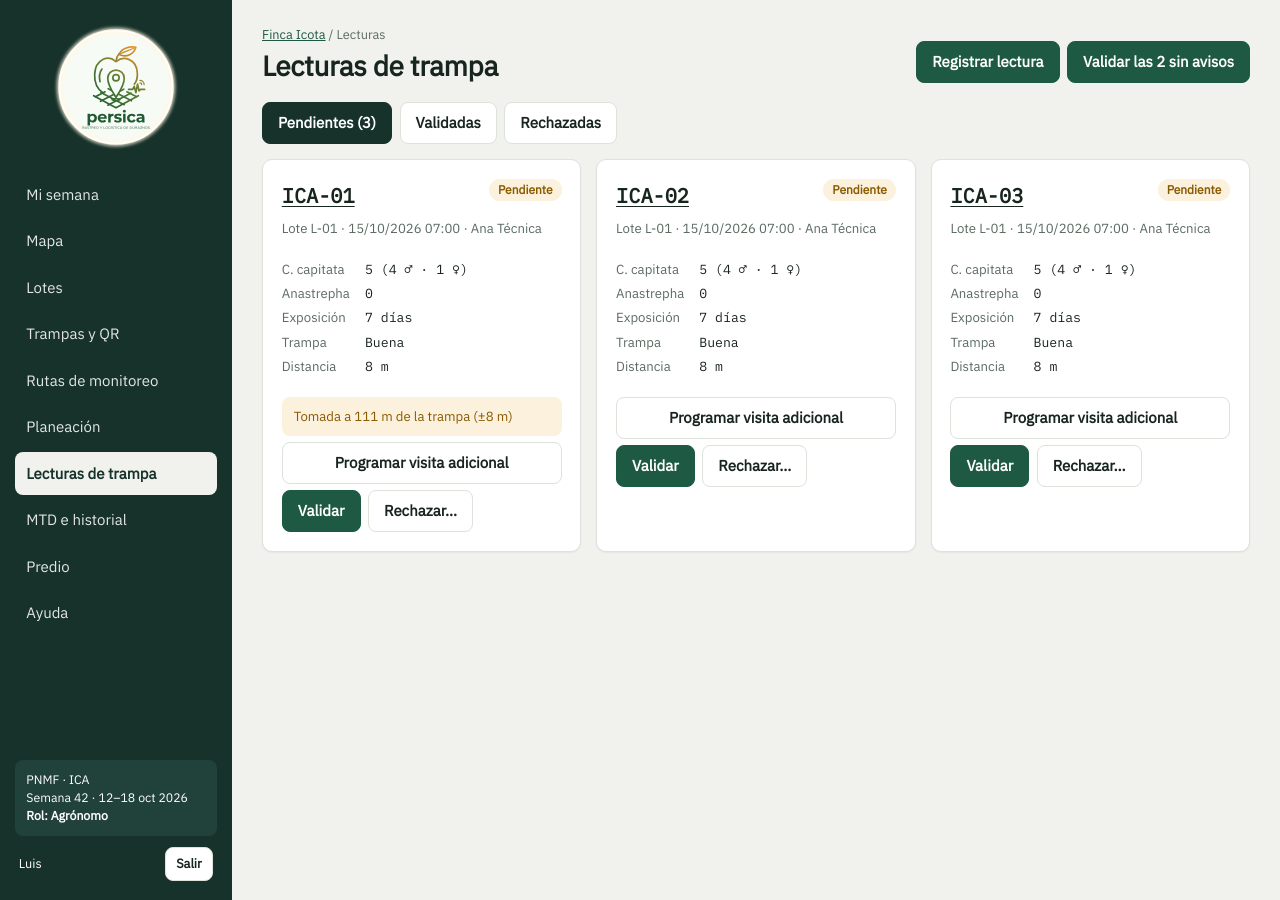
Scenario: VistaLecturas › cambia de pestaña y muestra cuando no hay lecturas
Expected: the list item with aria-label "Lectura de ICA-01" is shown, [262, 159, 581, 552]
Click the button "Rechazadas" at x=561, y=123, box [504, 102, 617, 144]
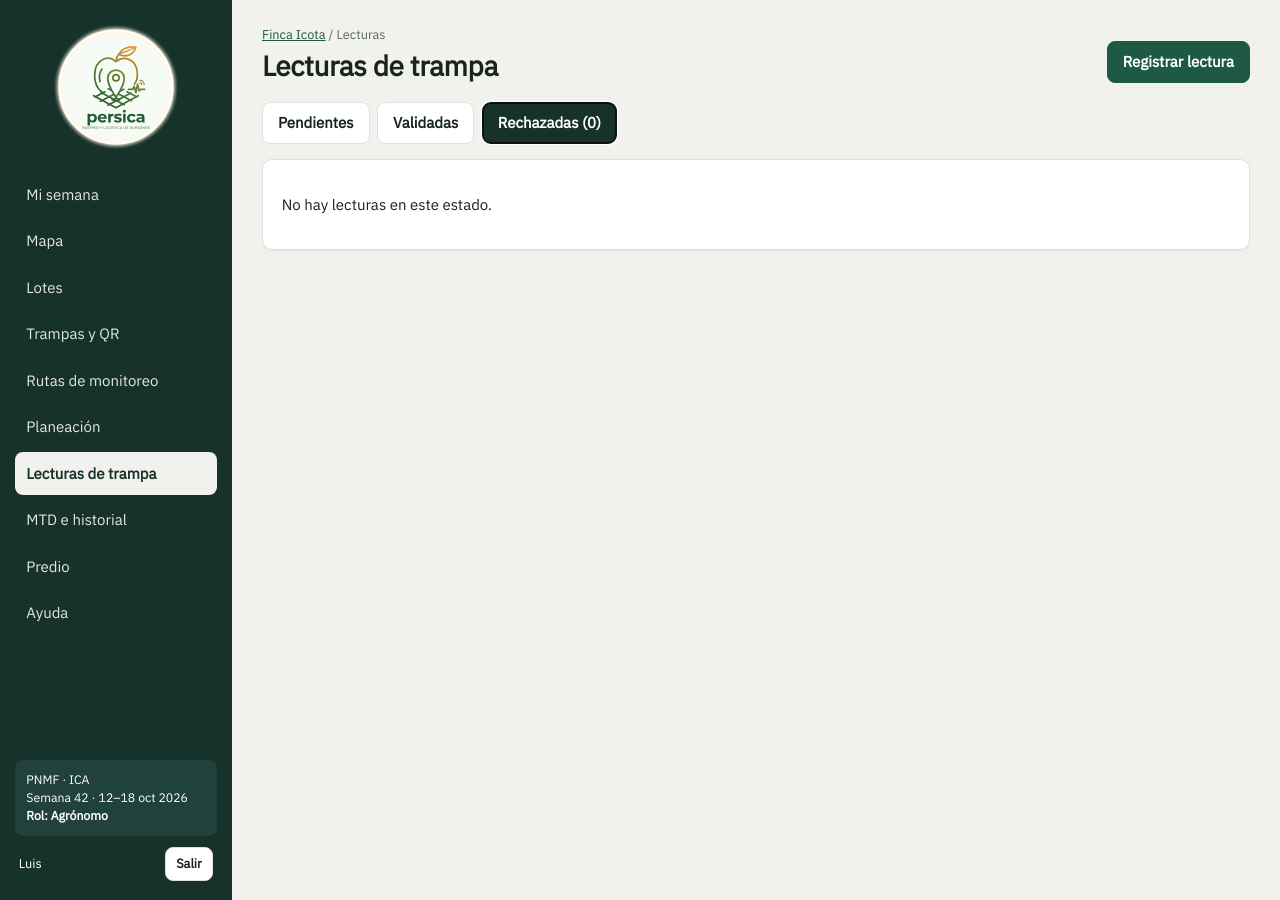
Expected: the text "No hay lecturas en este estado." is shown, [282, 195, 492, 214]
